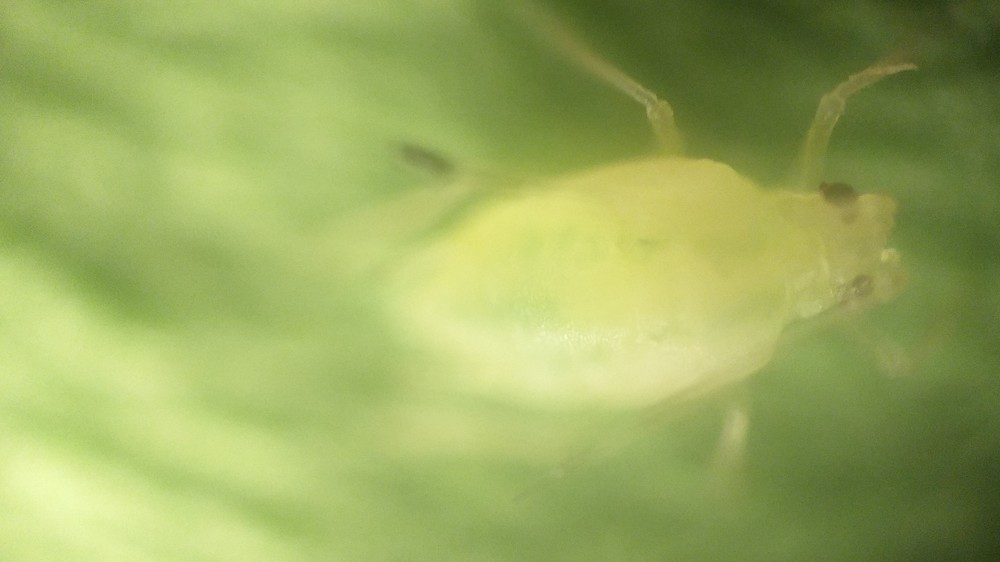Pulgon: (329, 26, 985, 505)
